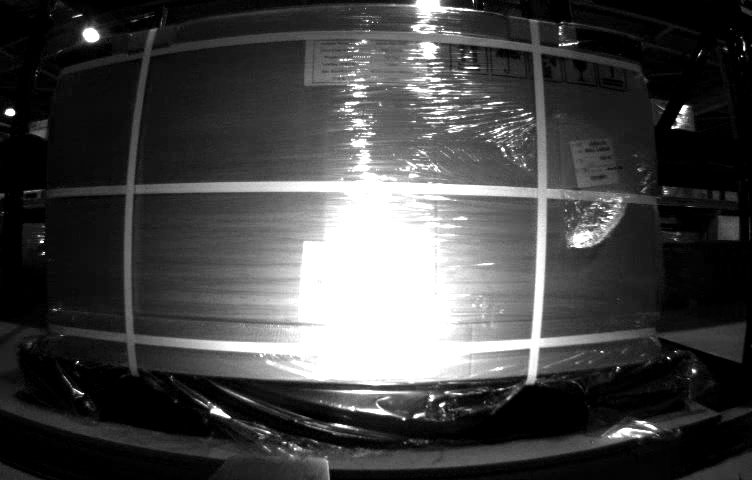True Barcode: (568, 134, 623, 188)
